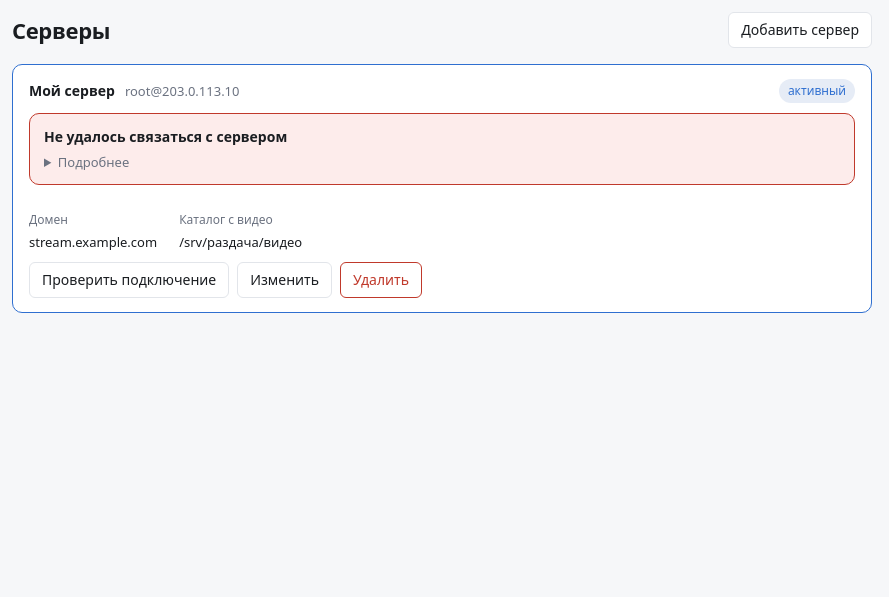
Scenario: the list of servers › shows every step of the check, including the ones not run
Click the button "Проверить подключение": (129, 280) [29, 262, 229, 298]
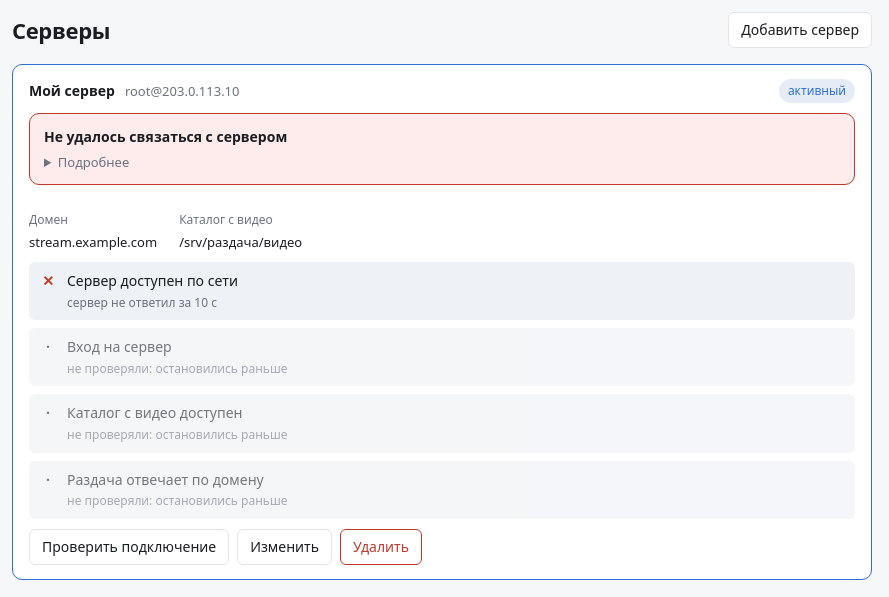
Expected: the text "Сервер доступен по сети" is shown, [67, 270, 238, 292]
Expected: the text "Вход на сервер" is shown, [67, 337, 172, 356]
Expected: the text "Раздача отвечает по домену" is shown, [67, 469, 288, 490]
